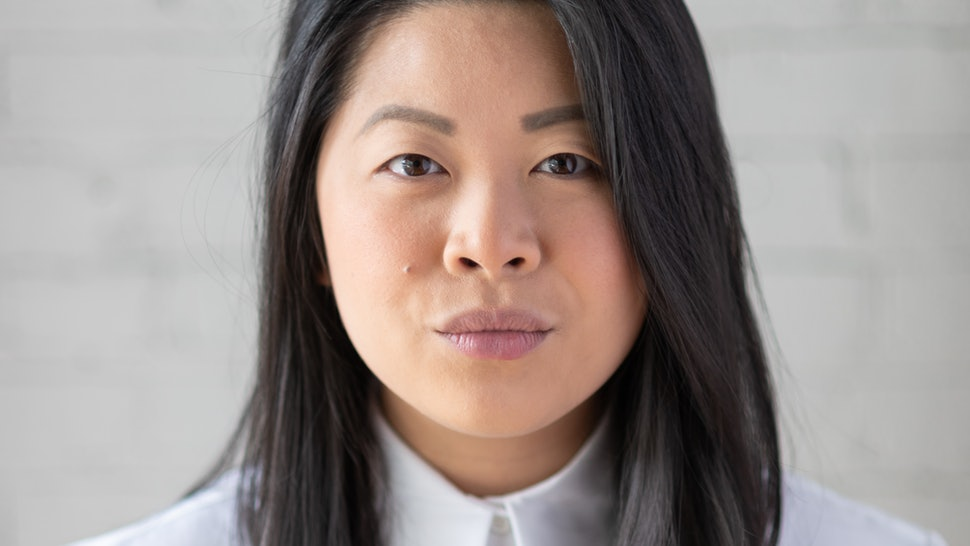bare: (316, 201, 671, 437)
